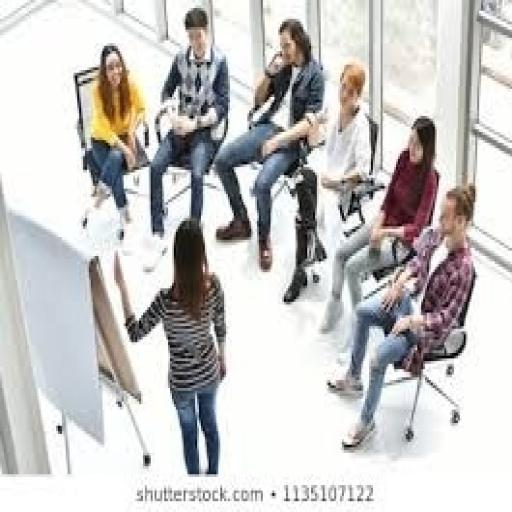sitting: (79, 8, 481, 455), (325, 181, 477, 450)
